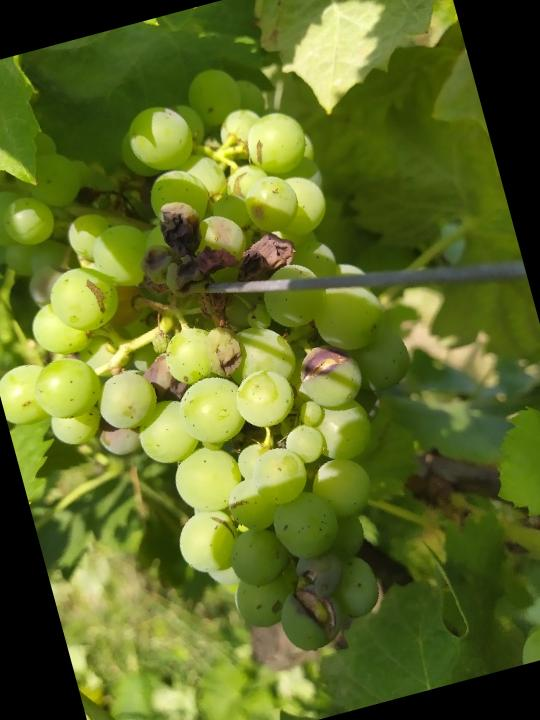grape: (0, 35, 481, 717)
